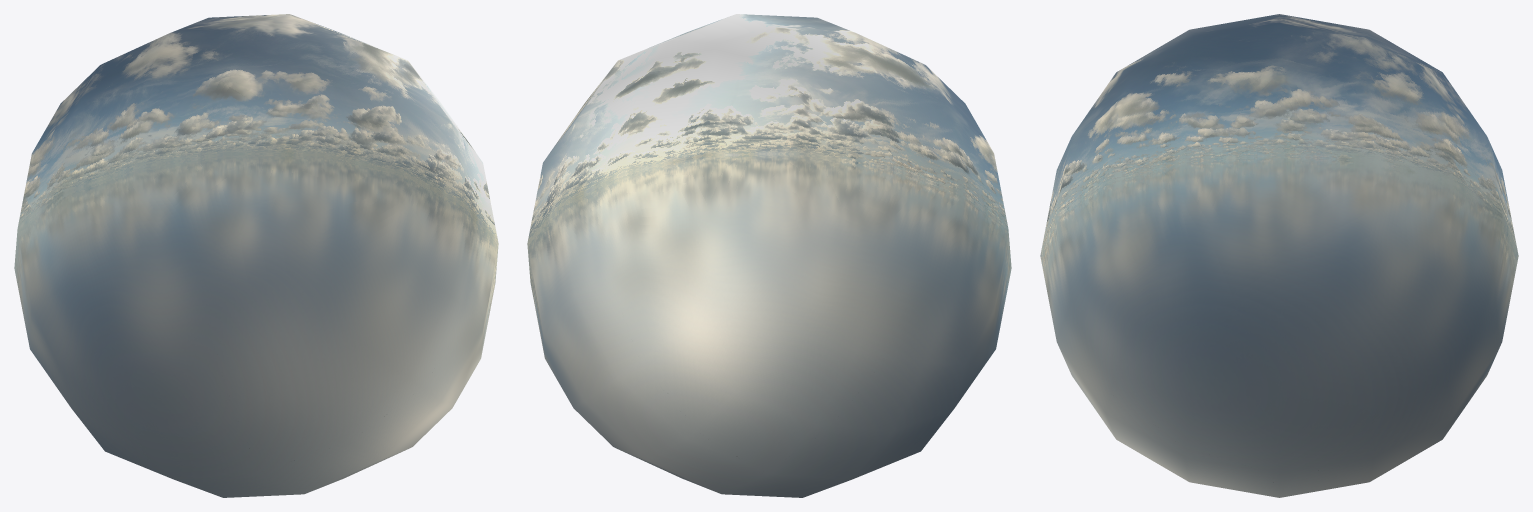
The model's file is sky.glb.
The picture shows the model from 3 angles, left to right: view 1: azimuth 30°, elevation 25°; view 2: azimuth 150°, elevation 25°; view 3: azimuth 270°, elevation 25°; orthographic projection.
Parts seen in each view (by area): view 1: Cube; view 2: Cube; view 3: Cube.
Part boxes in pixels (x1,y1,x2,y2): Cube: (14,14,498,497); Cube: (527,14,1011,497); Cube: (1040,14,1518,497).
Bounding box in the file's own units: 168 × 168 × 168.
Materials: 1 (1 with a texture image).
